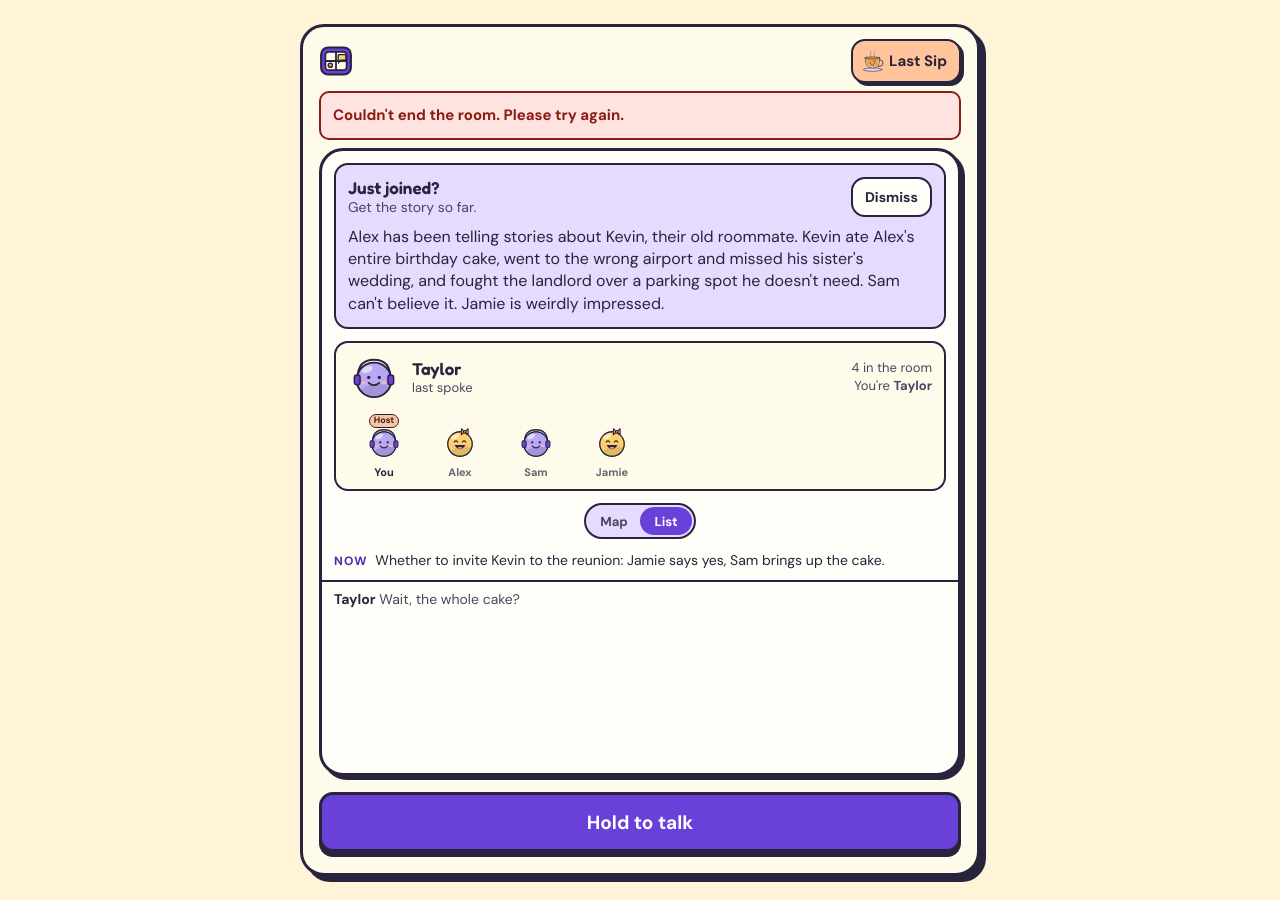
Scenario: burn state › shows Burning… while pending and the error alert, keeping the room
Expected: the message reads "Couldn't end the room. Please try again.", [333,105,624,125]
Step 1. Click the button "Last Sip" → (906, 61), box [851,39,961,83]
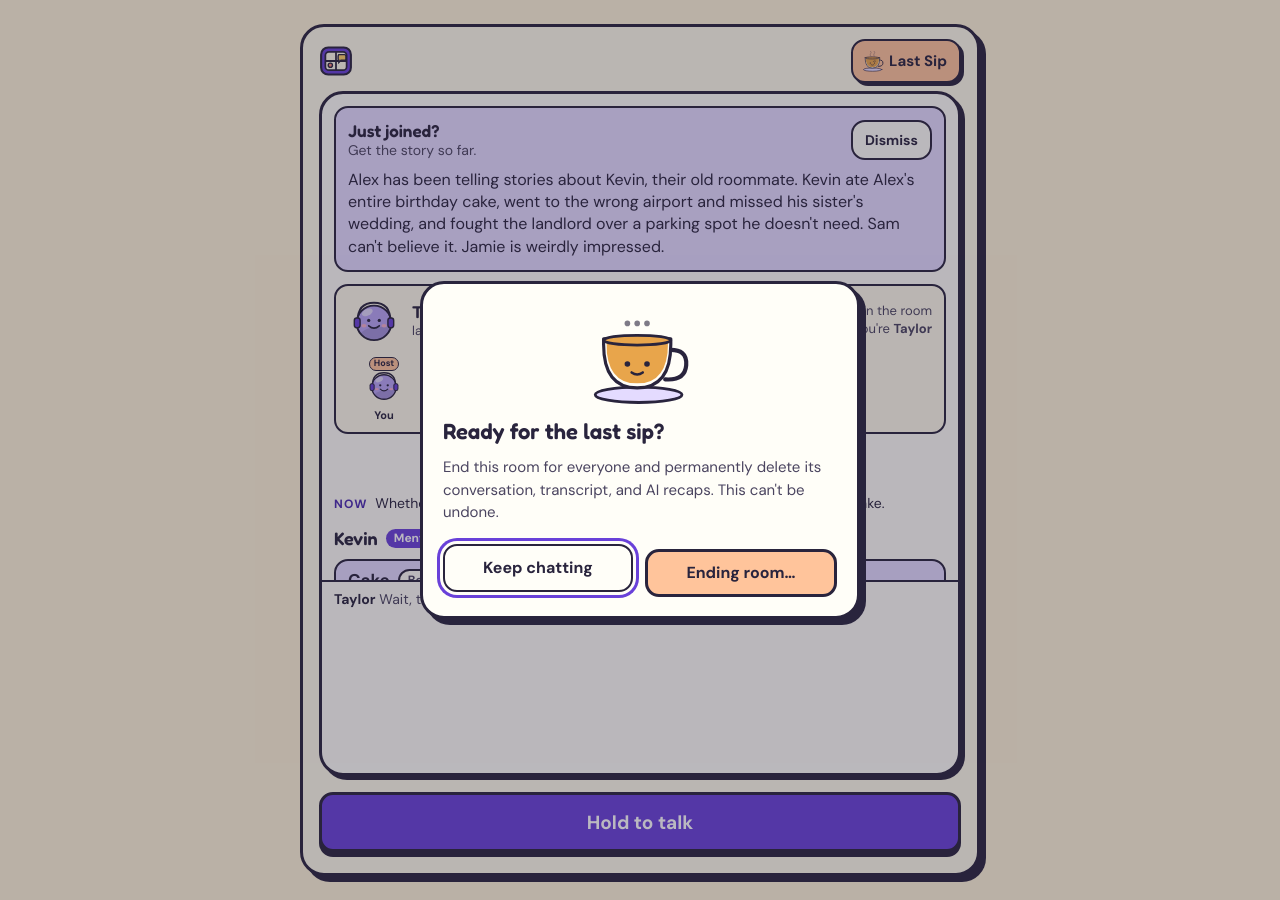
Result: the button "Ending room…" is disabled at [645,549,837,597]
